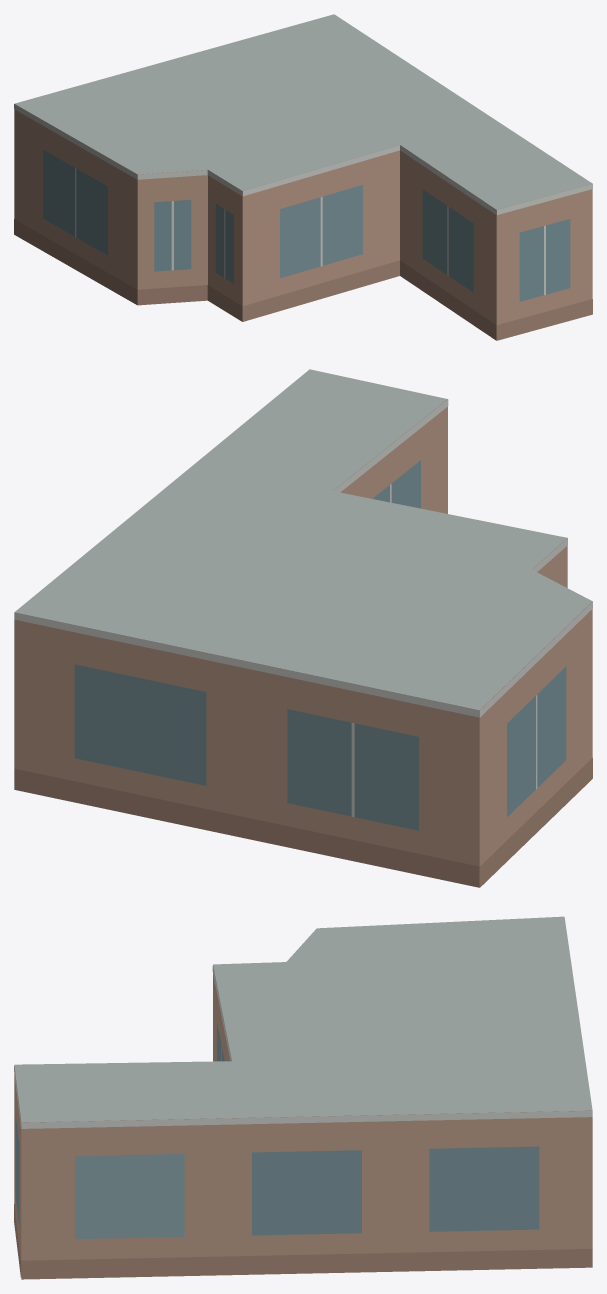
The model's file is survey-upis-32734027.glb.
3 renders of one model, top to bottom at view 1: azimuth 30°, elevation 25°; view 2: azimuth 150°, elevation 25°; view 3: azimuth 270°, elevation 25°, orthographic. The views are drawn at different scales.
Visible parts, largest first — view 1: survey-upis-32734027.tmp; view 2: survey-upis-32734027.tmp; view 3: survey-upis-32734027.tmp.
Part boxes in pixels (x1,y1,x2,y2): survey-upis-32734027.tmp: (14,14,592,340); survey-upis-32734027.tmp: (14,369,592,887); survey-upis-32734027.tmp: (14,916,592,1279).
Size of the model in its own units: 8.6 by 3.05 by 10.2.
